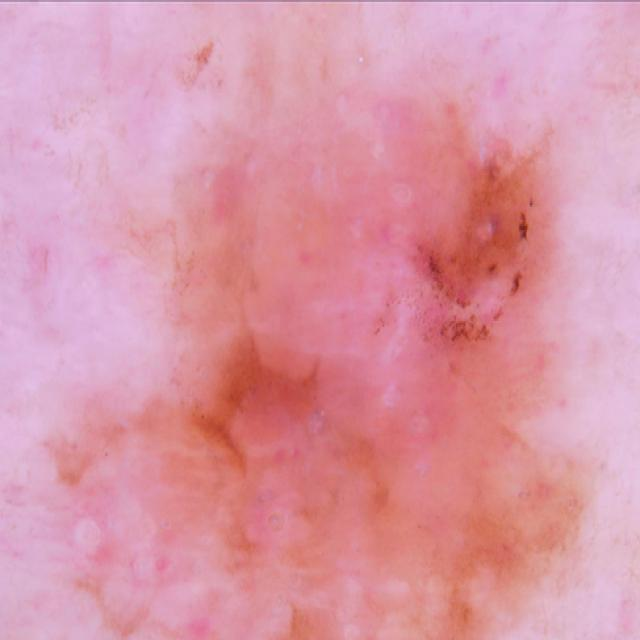Carcinoma: (94, 117, 628, 640)
